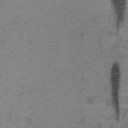oxide scale of plate system: (109, 60, 123, 123), (110, 0, 128, 34)
